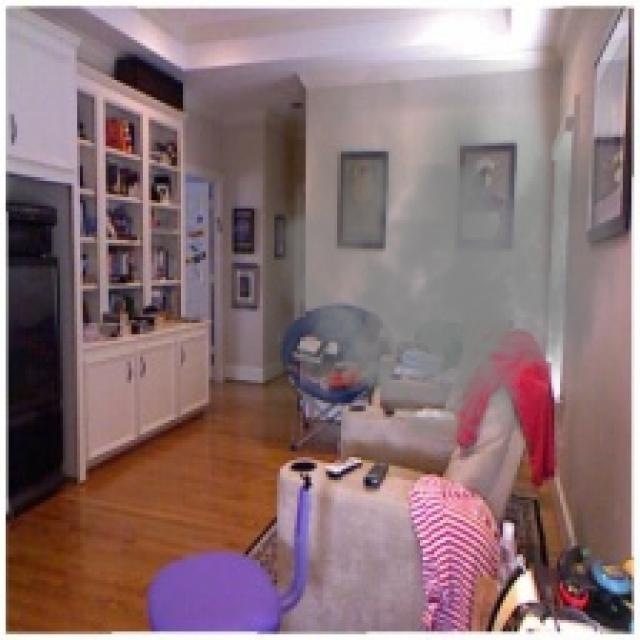Smoke: (260, 59, 620, 452)
